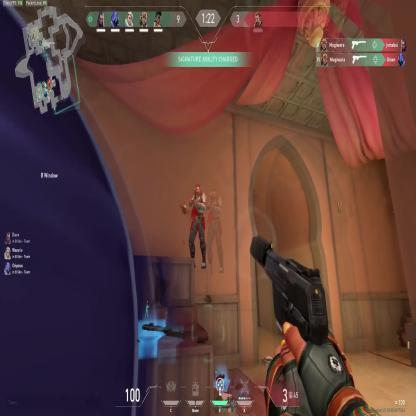enemy: (188, 183, 207, 270)
enemy_head: (194, 184, 202, 197)
